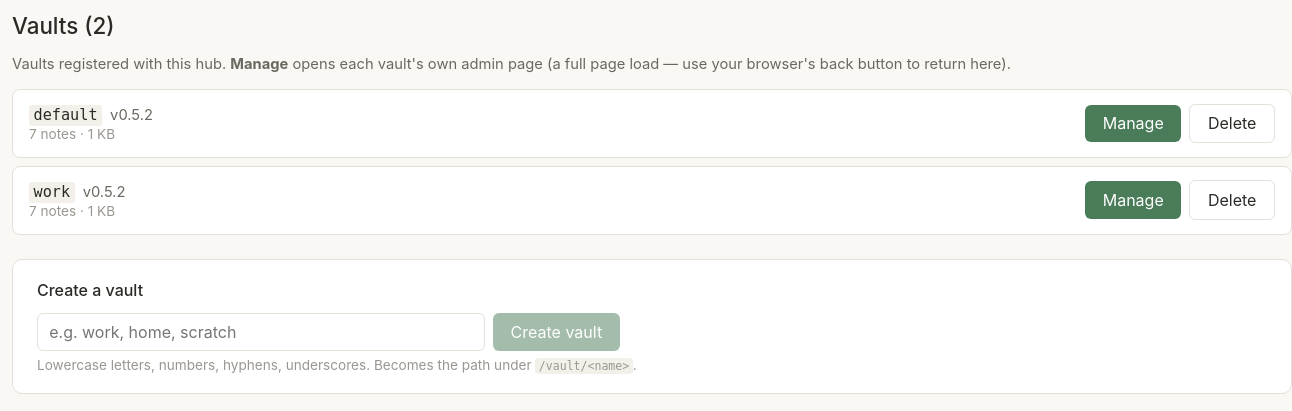
Test: MultiVaultHome — create › client-side validation blocks reserved names before any request
Type "admin" into the field named "New vault name" at [261, 332], box left=37, top=313, right=485, bottom=351
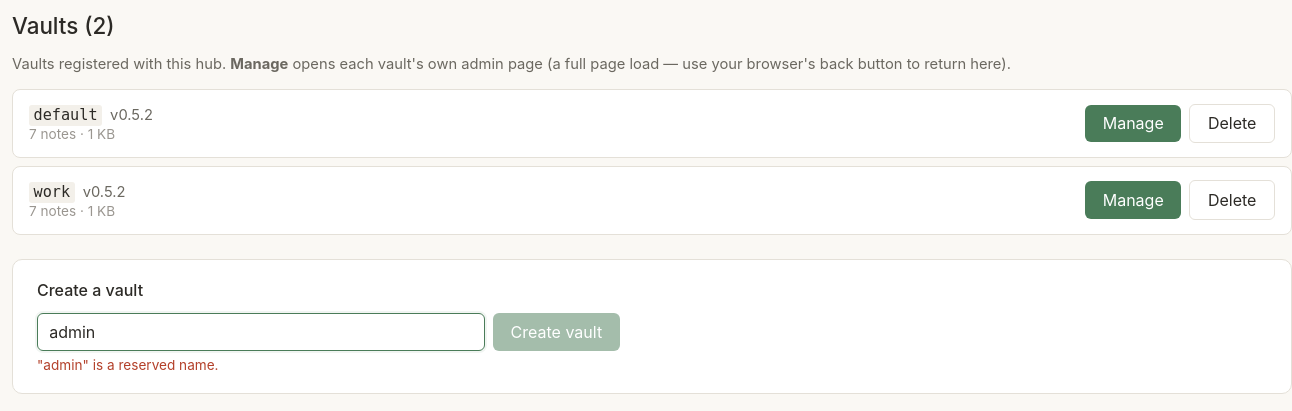
Expected: the button "Create vault" is disabled, left=493, top=313, right=620, bottom=351
Now the text "\"admin\" is a reserved name." is shown, box left=37, top=357, right=218, bottom=373
